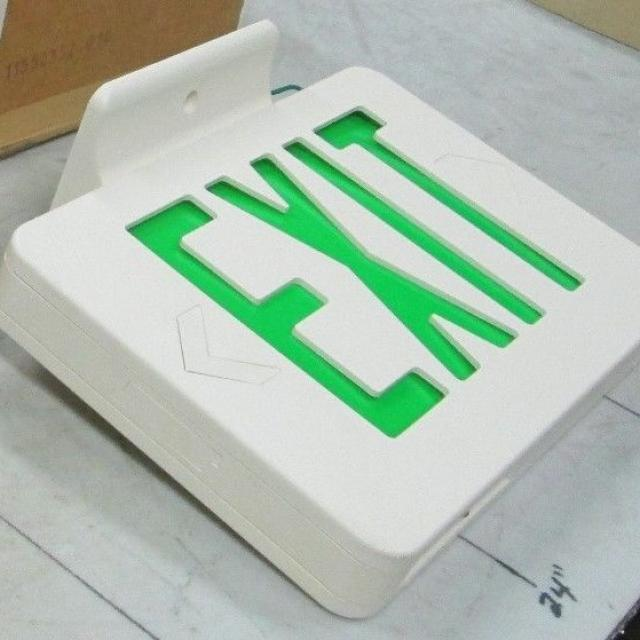exit_sign: (21, 32, 622, 522)
